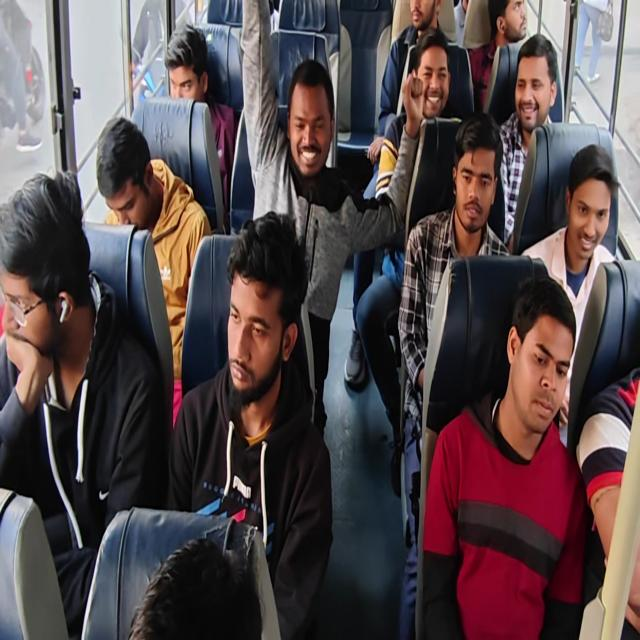person: (1, 1, 638, 638), (238, 0, 433, 436), (0, 168, 165, 637), (166, 210, 334, 638), (416, 274, 588, 639), (397, 111, 511, 637), (354, 28, 459, 496), (96, 116, 212, 428), (520, 143, 618, 435), (576, 367, 639, 637), (488, 34, 558, 250), (163, 22, 235, 228), (128, 536, 263, 639), (367, 0, 449, 166), (468, 0, 527, 114), (573, 0, 612, 83)
